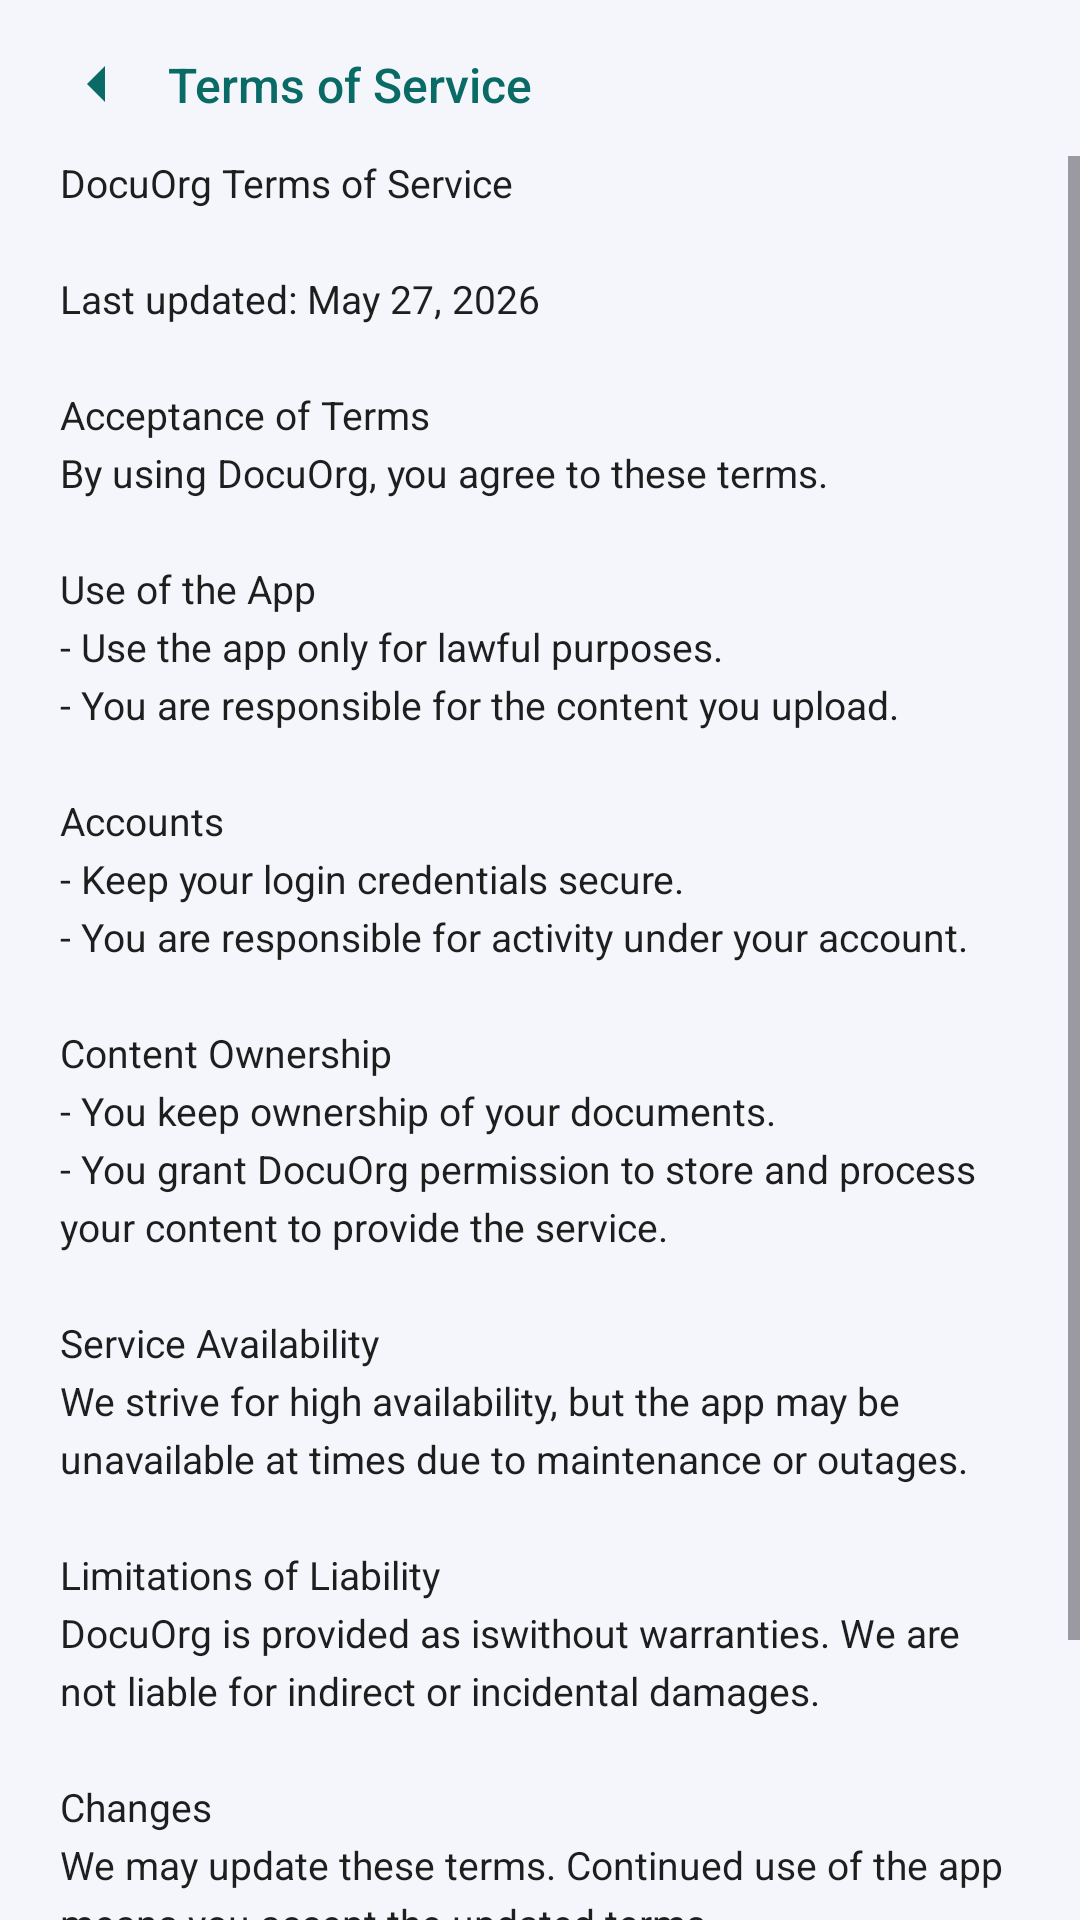

Named icons in this screenshot (1080*1920) and their bounding boxes, (x1, y1, x2, y2):
Back: (87, 66, 105, 102)
